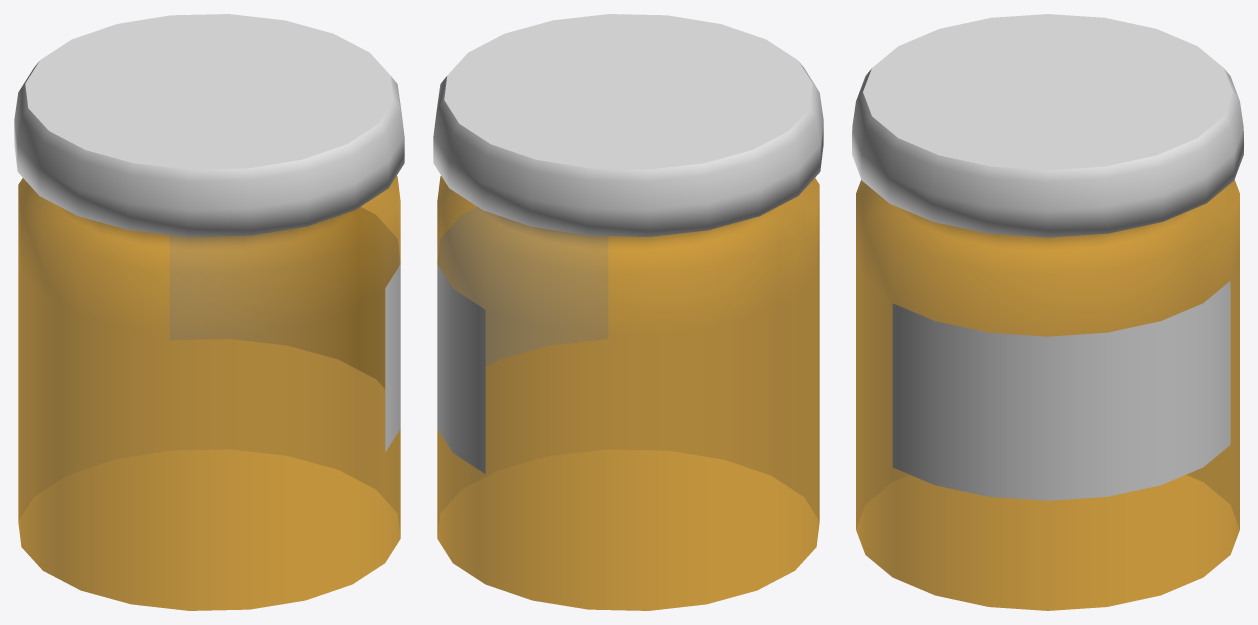
Rendered from MedsModel.fbx.
3 views of the same model, side by side, from view 1: azimuth 30°, elevation 25°; view 2: azimuth 150°, elevation 25°; view 3: azimuth 270°, elevation 25° (orthographic).
Parts seen in each view (by area): view 1: pCylinder1; view 2: pCylinder1; view 3: pCylinder1.
Part boxes in pixels (box(x1,y1,x2,y2)): pCylinder1: box(14, 14, 404, 610); pCylinder1: box(433, 14, 823, 610); pCylinder1: box(852, 14, 1243, 610).
Bounding box in the file's own units: 4.02 × 4.95 × 4.02.
